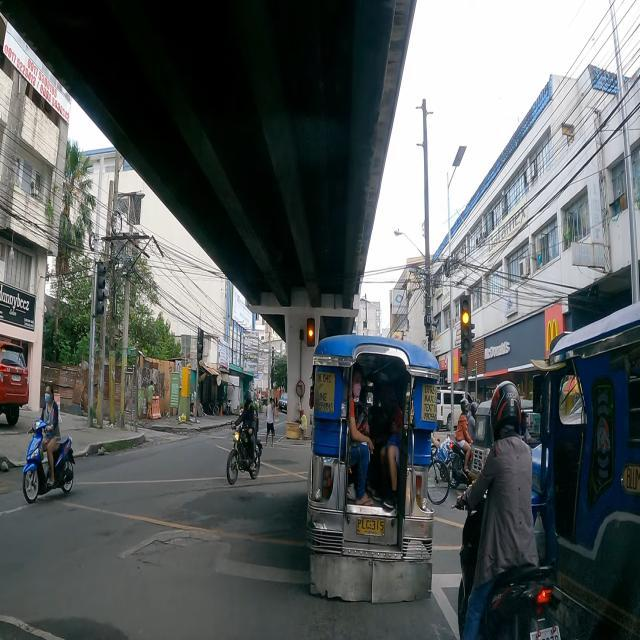bike: (428, 436, 451, 504)
car: (0, 340, 29, 426), (436, 386, 465, 432)
jeepney: (532, 302, 640, 640), (306, 334, 439, 604)
motorcycle: (454, 380, 560, 640), (22, 386, 74, 502), (226, 390, 262, 484), (451, 398, 476, 486)
tricycle: (470, 398, 494, 474)
